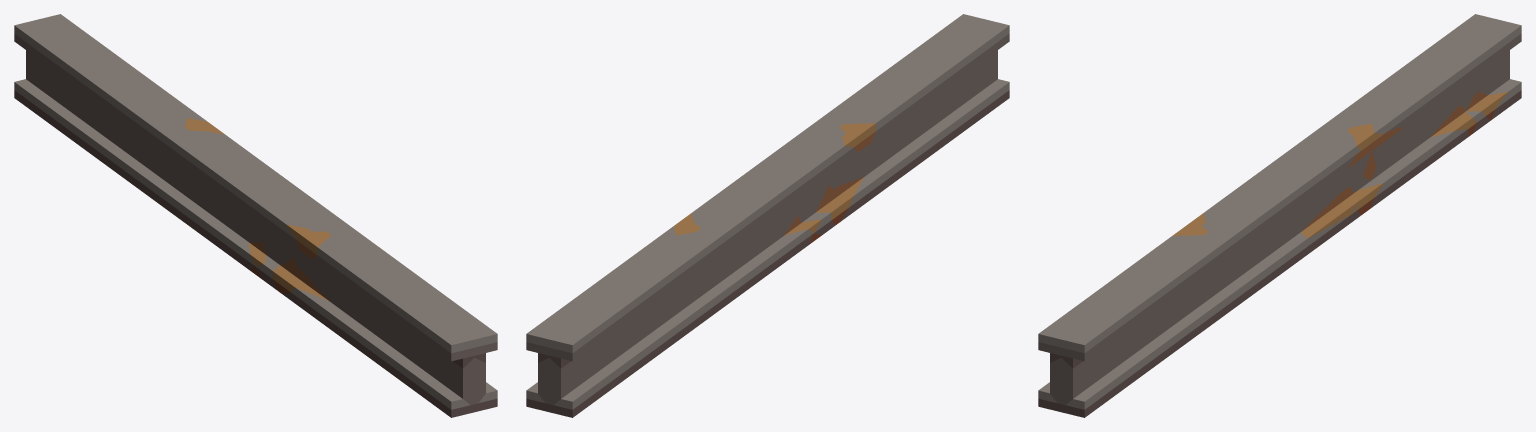
File: metalBar.fbx
3 renders of one model, left to right at view 1: azimuth 30°, elevation 25°; view 2: azimuth 150°, elevation 25°; view 3: azimuth 330°, elevation 25°, orthographic.
Visible parts, largest first — view 1: bar; view 2: bar; view 3: bar.
Boxes of the visible parts, bbox=[...] form: bar: bbox=[14, 14, 497, 417]; bar: bbox=[526, 14, 1009, 417]; bar: bbox=[1038, 14, 1521, 417].
Size of the model in its own units: 37.5 by 56.25 by 613.
1 material, 1 textured.
